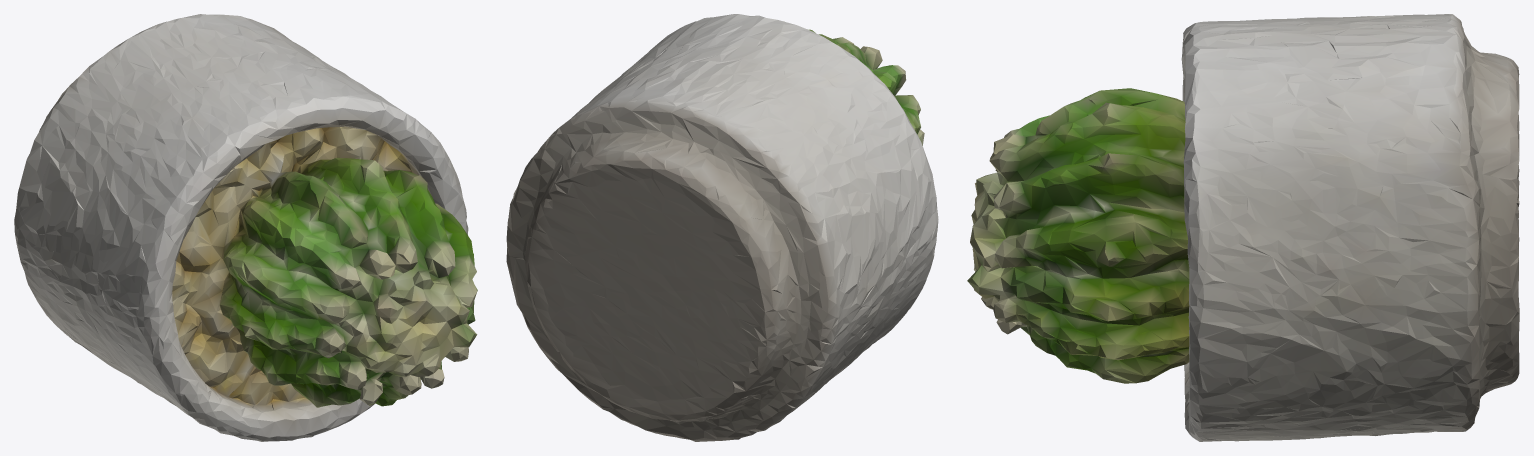
The model's file is potted_plant_1.glb.
The picture shows the model from 3 angles, left to right: view 1: azimuth 30°, elevation 25°; view 2: azimuth 150°, elevation 25°; view 3: azimuth 270°, elevation 25°; orthographic projection. The views are drawn at different scales.
Parts seen in each view (by area): view 1: geometry_0; view 2: geometry_0; view 3: geometry_0.
Boxes of the visible parts, left/top/right/bottom form: geometry_0: left=14, top=14, right=477, bottom=441; geometry_0: left=506, top=14, right=938, bottom=441; geometry_0: left=967, top=14, right=1519, bottom=441.
Bounding box in the file's own units: 0.798 × 0.7594 × 1.
